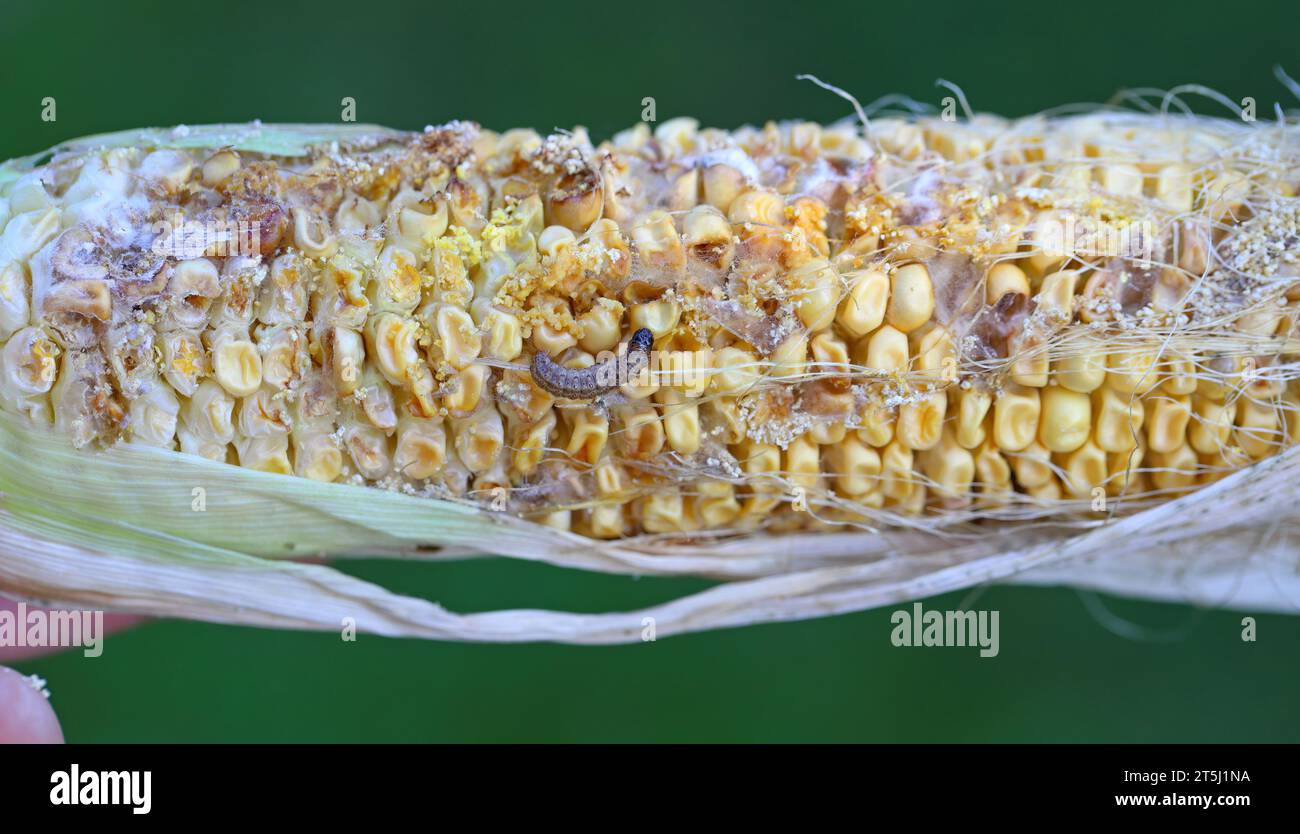rotten corn: (7, 89, 1300, 645)
